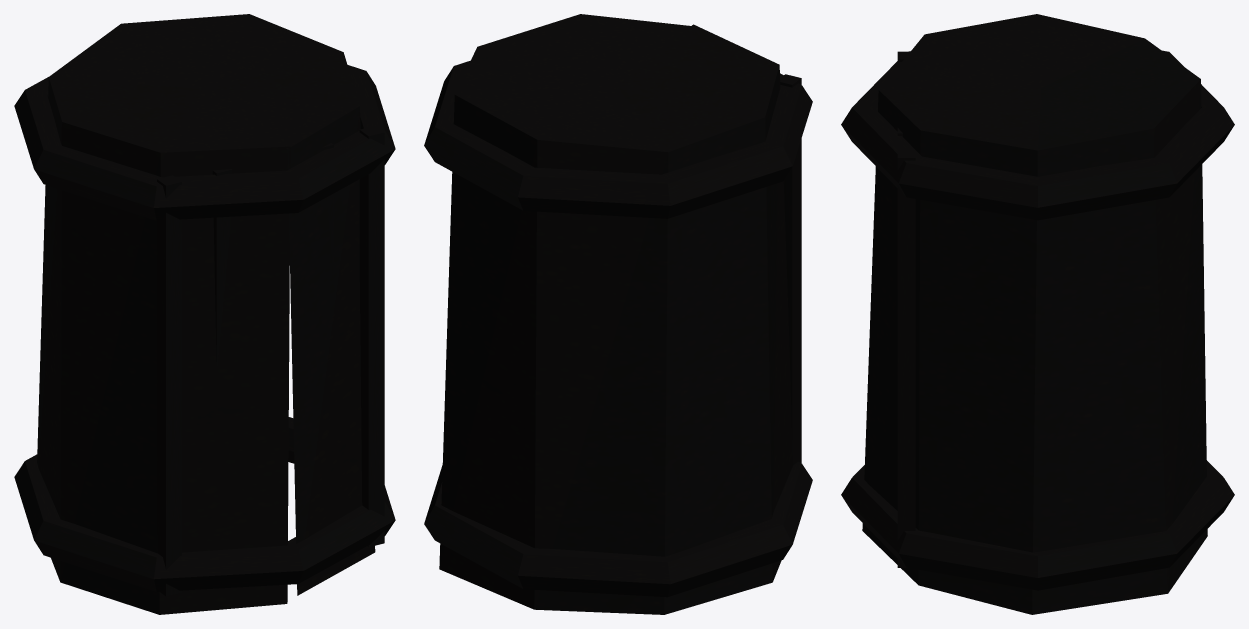
File: stone-wanderer-warden-cage-v1.glb
The picture shows the model from 3 angles, left to right: view 1: azimuth 30°, elevation 25°; view 2: azimuth 150°, elevation 25°; view 3: azimuth 270°, elevation 25°; orthographic projection. The views are drawn at different scales.
Visible parts, largest first — view 1: Part_0, Part_1, Part_2, Part_3, Part_7, Part_4; view 2: Part_0, Part_1, Part_2, Part_3; view 3: Part_0, Part_1, Part_2, Part_7.
Boxes of the visible parts, x1,y1,x2,y2 form: Part_0: [37, 14, 375, 614]; Part_1: [14, 65, 395, 220]; Part_2: [14, 417, 395, 591]; Part_3: [157, 175, 181, 596]; Part_7: [359, 126, 384, 546]; Part_4: [212, 169, 232, 376]; Part_0: [439, 14, 793, 614]; Part_1: [424, 60, 812, 218]; Part_2: [424, 461, 812, 597]; Part_3: [780, 74, 801, 464]; Part_0: [862, 14, 1207, 614]; Part_1: [841, 50, 1234, 220]; Part_2: [841, 460, 1234, 590]; Part_7: [897, 150, 915, 567].
Bounding box in the file's own units: 0.54 × 0.6978 × 0.54.
Materials: 2 (1 with a texture image).
